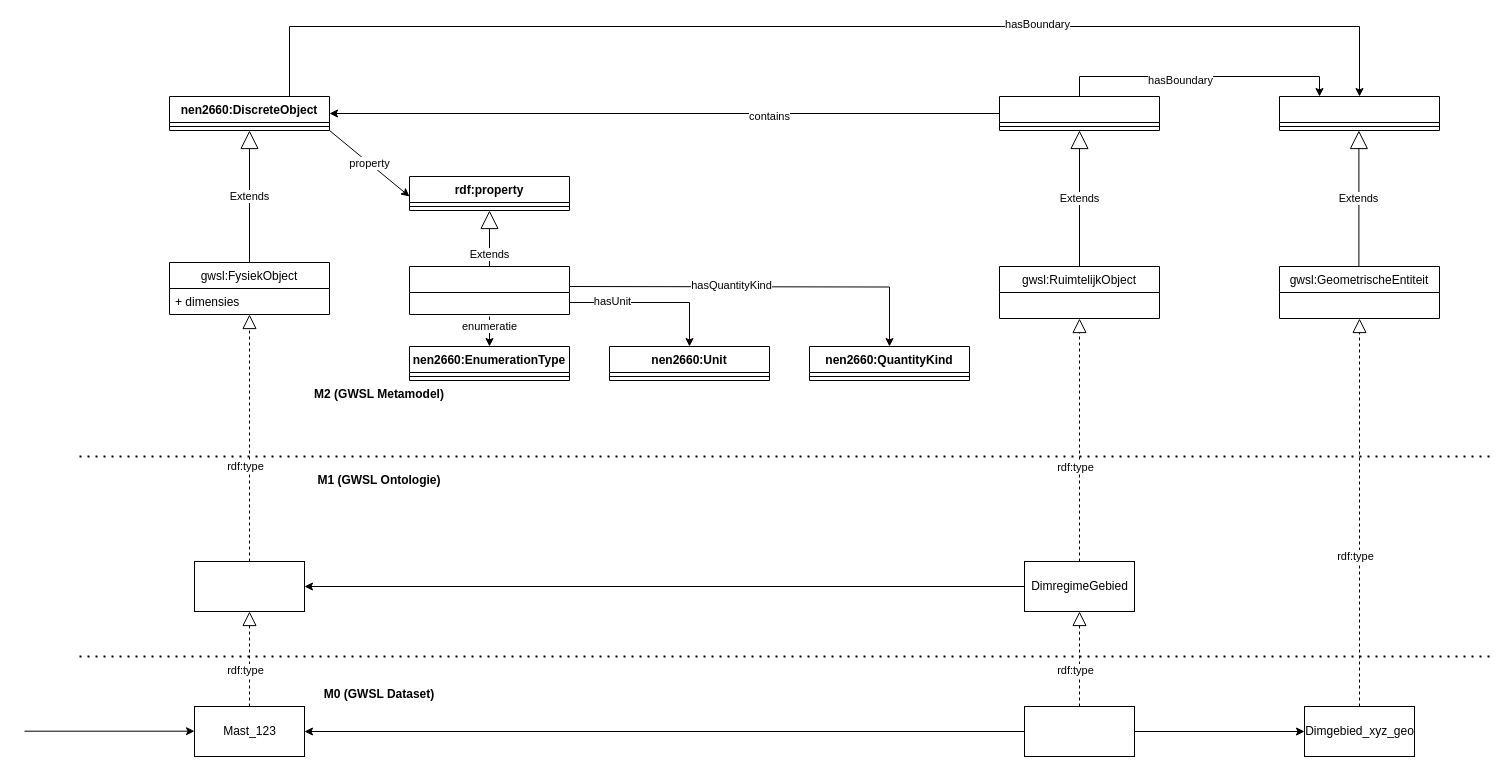
Image size: 1509x774. Some labels were removed from this diagram. Each missing label, with the centre of its shape:
Dimgebied_xyz: the point at 1079,731
gwsl:Attribuut: the point at 489,290
Mast: the point at 249,586
nen2660:GeometricEntity: the point at 1359,113
nen2660:SpatialRegion: the point at 1079,113
